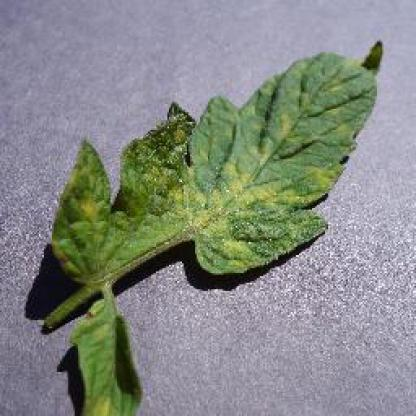bad leaf: (31, 28, 403, 407)
